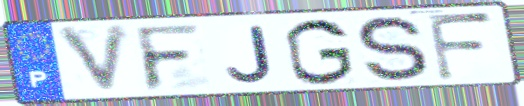F: (132, 22, 205, 94), (424, 11, 497, 83)
G: (281, 17, 357, 87)
J: (223, 24, 276, 85)
S: (354, 14, 433, 85)
V: (53, 22, 134, 98)
